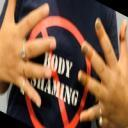hand: (0, 0, 57, 107), (77, 16, 127, 127)
